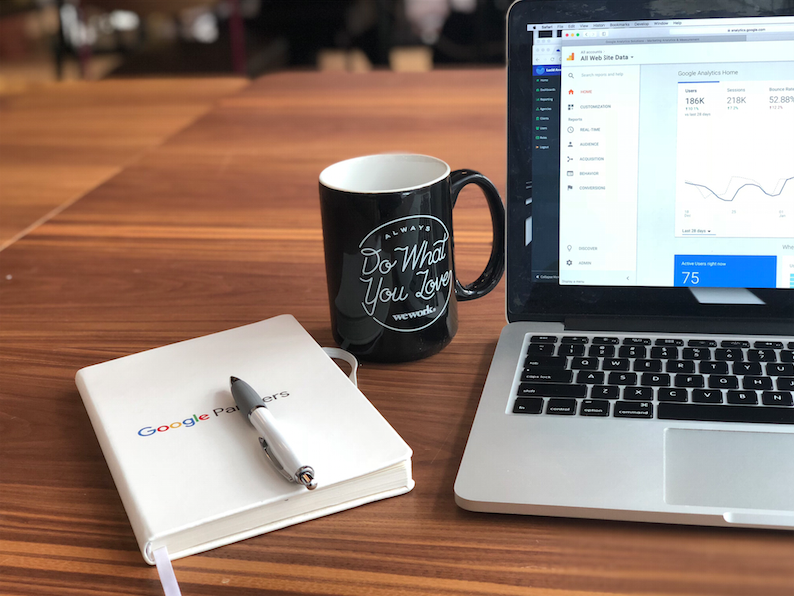wework: (390, 303, 433, 323)
